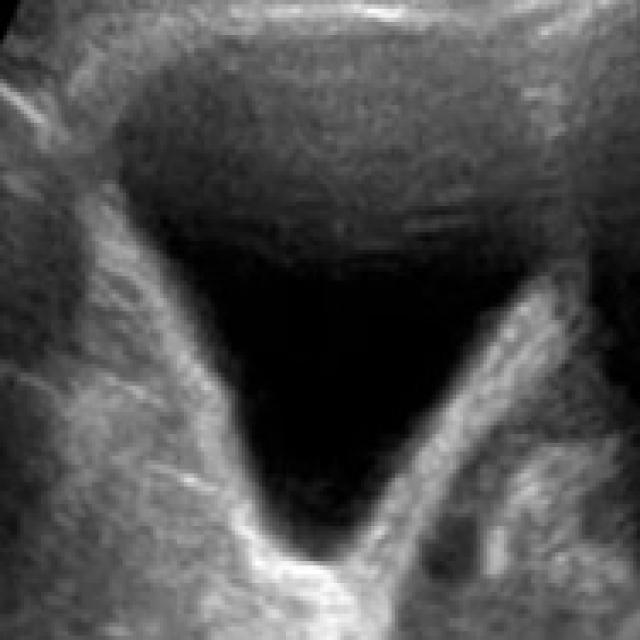bladder: (93, 10, 568, 623)
